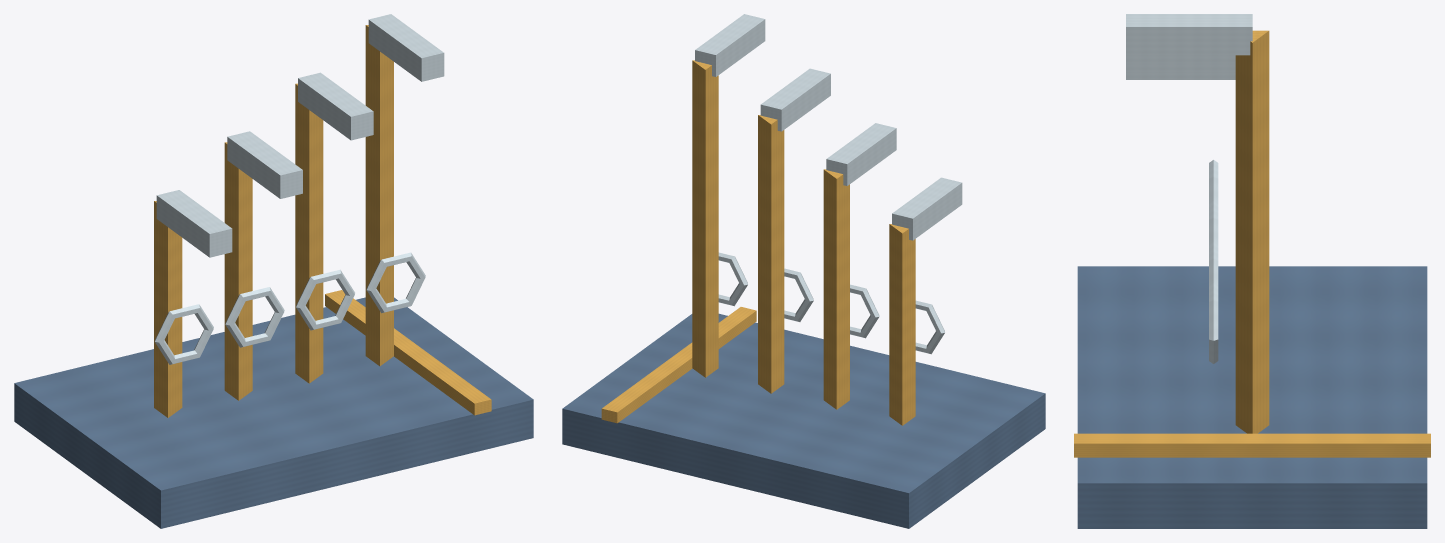
File: atlas100-s054-a02.lod2.glb
The picture shows the model from 3 angles, left to right: view 1: azimuth 30°, elevation 25°; view 2: azimuth 150°, elevation 25°; view 3: azimuth 270°, elevation 25°; orthographic projection. The views are drawn at different scales.
Visible parts, largest first — view 1: atlas100-s054-a02:part-000, atlas100-s054-a02:part-012, atlas100-s054-a02:part-009, atlas100-s054-a02:part-006, atlas100-s054-a02:part-003, atlas100-s054-a02:part-002, atlas100-s054-a02:part-005, atlas100-s054-a02:part-014, atlas100-s054-a02:part-008, atlas100-s054-a02:part-011, atlas100-s054-a02:part-007, atlas100-s054-a02:part-013 (+2 smaller); view 2: atlas100-s054-a02:part-000, atlas100-s054-a02:part-012, atlas100-s054-a02:part-009, atlas100-s054-a02:part-006, atlas100-s054-a02:part-003, atlas100-s054-a02:part-002, atlas100-s054-a02:part-005, atlas100-s054-a02:part-011, atlas100-s054-a02:part-014, atlas100-s054-a02:part-008, atlas100-s054-a02:part-004, atlas100-s054-a02:part-010 (+2 smaller); view 3: atlas100-s054-a02:part-000, atlas100-s054-a02:part-012, atlas100-s054-a02:part-002, atlas100-s054-a02:part-014, atlas100-s054-a02:part-008, atlas100-s054-a02:part-011, atlas100-s054-a02:part-005, atlas100-s054-a02:part-013.
Boxes of the visible parts, x1,y1,x2,y2 form: atlas100-s054-a02:part-000: (14,297,533,528); atlas100-s054-a02:part-012: (365,25,393,366); atlas100-s054-a02:part-009: (295,83,323,383); atlas100-s054-a02:part-006: (224,142,252,400); atlas100-s054-a02:part-003: (154,201,182,417); atlas100-s054-a02:part-002: (325,290,491,415); atlas100-s054-a02:part-005: (156,190,232,257); atlas100-s054-a02:part-014: (368,14,444,81); atlas100-s054-a02:part-008: (227,131,302,198); atlas100-s054-a02:part-011: (298,72,373,140); atlas100-s054-a02:part-007: (225,287,284,347); atlas100-s054-a02:part-013: (366,252,425,313); atlas100-s054-a02:part-000: (562,313,1045,528); atlas100-s054-a02:part-012: (692,60,718,377); atlas100-s054-a02:part-009: (758,115,784,393); atlas100-s054-a02:part-006: (823,169,849,409); atlas100-s054-a02:part-003: (889,224,915,425); atlas100-s054-a02:part-002: (601,307,756,423); atlas100-s054-a02:part-005: (892,177,962,240); atlas100-s054-a02:part-011: (760,68,830,131); atlas100-s054-a02:part-014: (695,14,765,76); atlas100-s054-a02:part-008: (826,123,896,185); atlas100-s054-a02:part-004: (915,300,944,354); atlas100-s054-a02:part-010: (784,268,813,321); atlas100-s054-a02:part-000: (1077,266,1427,528); atlas100-s054-a02:part-012: (1235,30,1269,433); atlas100-s054-a02:part-002: (1074,433,1430,457); atlas100-s054-a02:part-014: (1126,14,1252,55); atlas100-s054-a02:part-008: (1126,63,1235,71); atlas100-s054-a02:part-011: (1126,55,1235,63); atlas100-s054-a02:part-005: (1126,72,1235,79); atlas100-s054-a02:part-013: (1209,283,1218,363).
Bounding box in the file's own units: 2.64 × 2.62 × 1.84.
3 materials, 3 textured.
